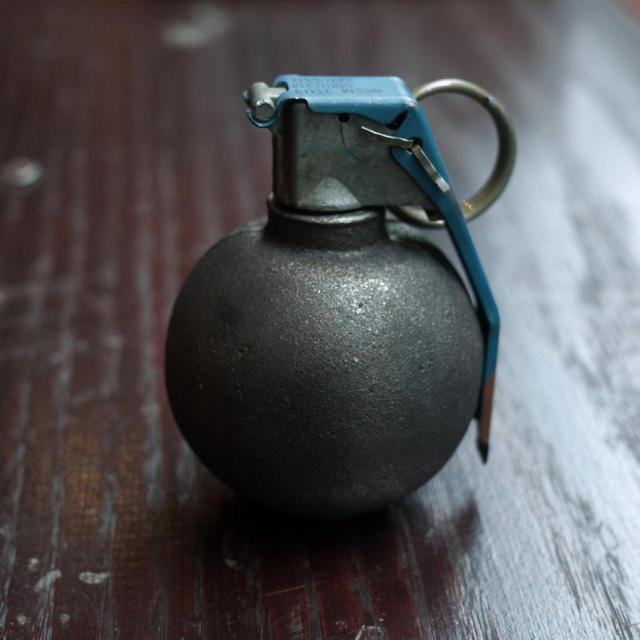grenade: (167, 75, 503, 525)
